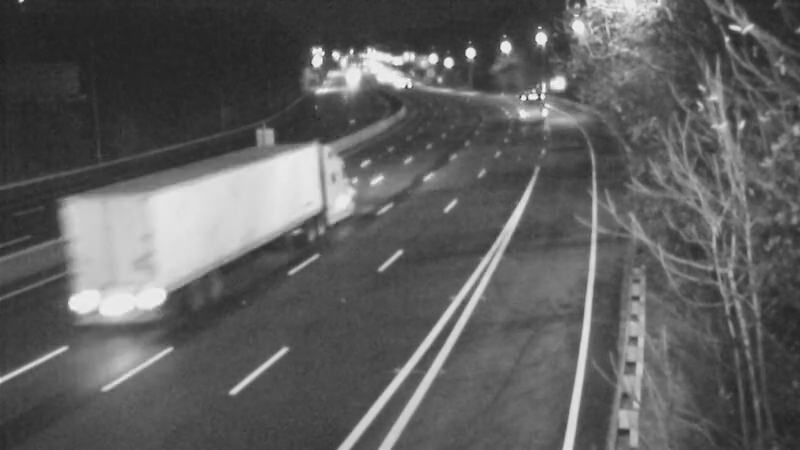vehicle: (231, 182, 311, 262), (358, 57, 408, 107), (386, 57, 436, 107), (498, 79, 548, 129)
